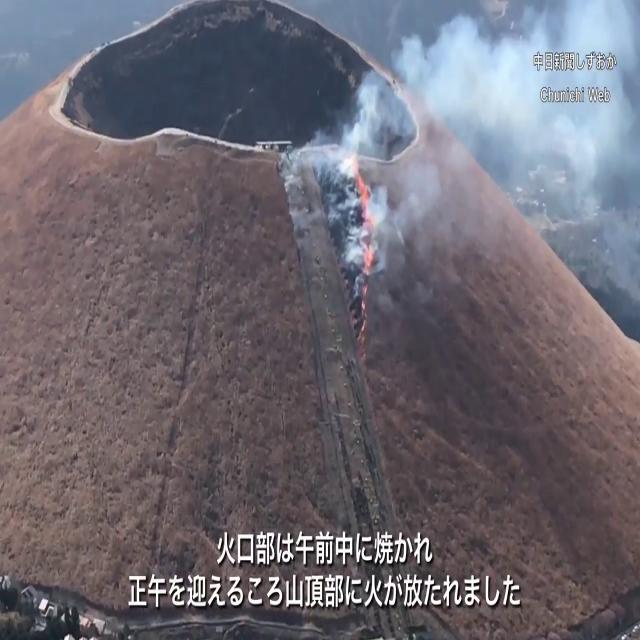Smoke: (300, 1, 640, 260)
